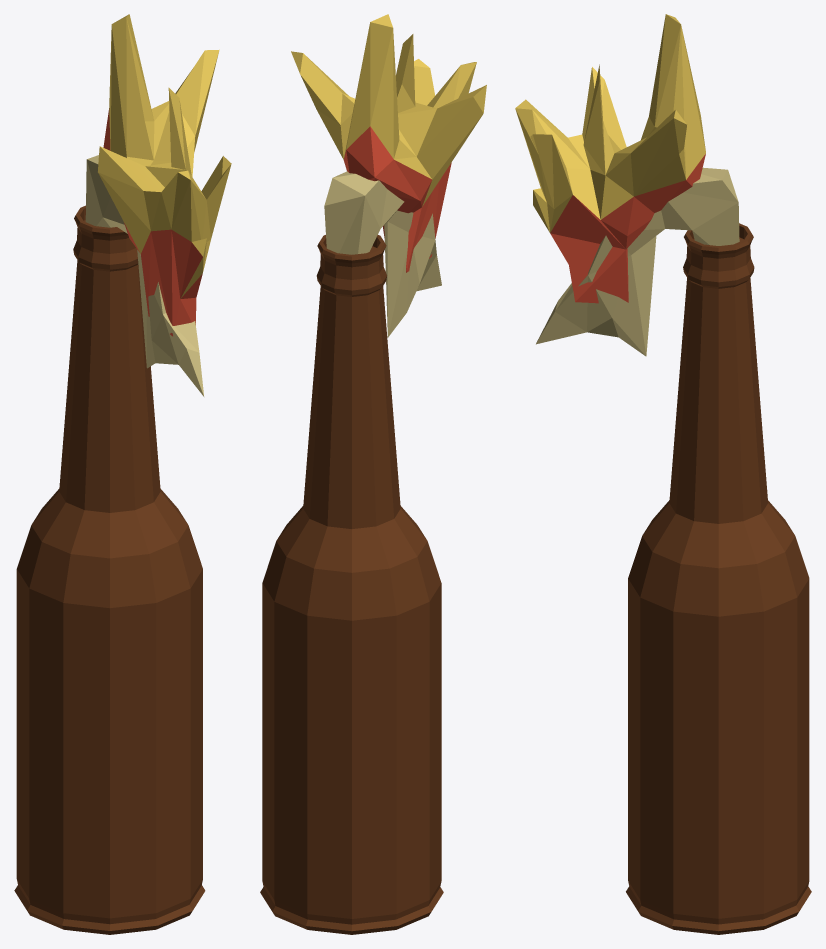
File: Granada_Molotov.fbx
3 views of the same model, side by side, from view 1: azimuth 30°, elevation 25°; view 2: azimuth 150°, elevation 25°; view 3: azimuth 270°, elevation 25° (orthographic). The views are drawn at different scales.
Parts seen in each view (by area): view 1: granadamolotov; view 2: granadamolotov; view 3: granadamolotov.
Part boxes in pixels (bbox=[...]): granadamolotov: bbox=[14, 14, 231, 934]; granadamolotov: bbox=[260, 14, 486, 934]; granadamolotov: bbox=[515, 14, 811, 934].
Bounding box in the file's own units: 0.9918 × 5.05 × 1.55.
